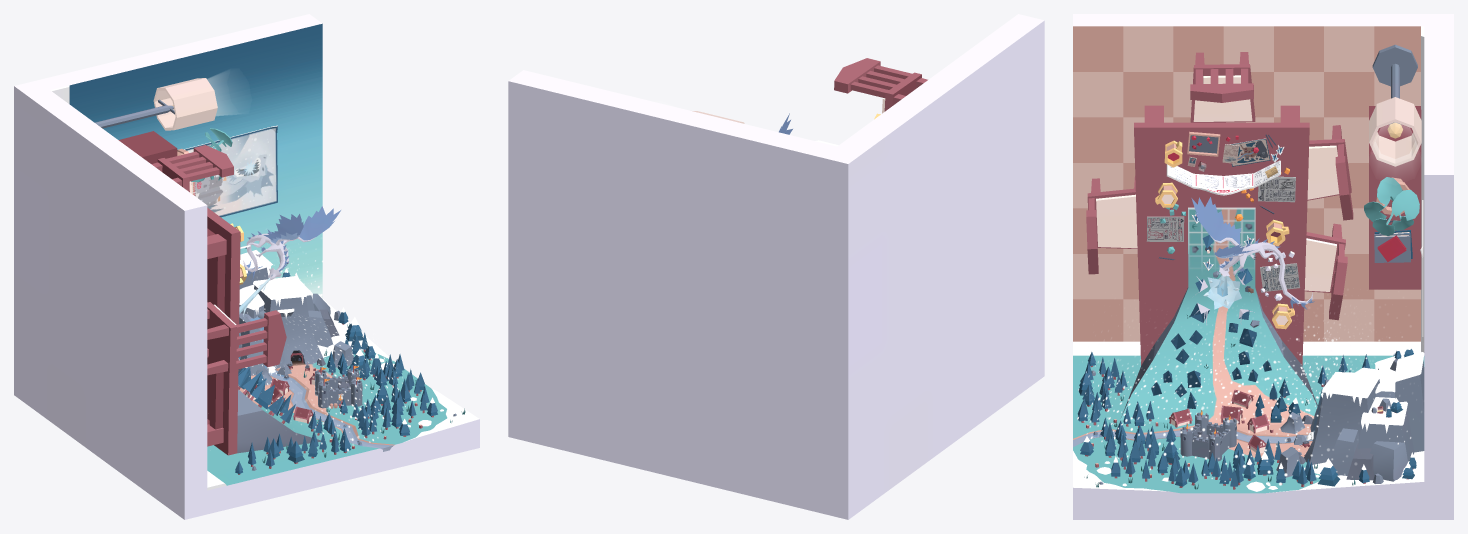
File: the_dragon_of_rockmine_keep-transformed.glb
The picture shows the model from 3 angles, left to right: view 1: azimuth 30°, elevation 25°; view 2: azimuth 150°, elevation 25°; view 3: azimuth 270°, elevation 25°; orthographic projection. The views are drawn at different scales.
Visible parts, largest first — view 1: ShelfItems_GEO_ColourChart_MAT_0, ShelfItems_GEO_PosterAndBooks_MAT_0, ShelfItems_GEO_GroundTexture_MAT_0, RockmineKeep_GEO_Snow_MAT_0, Furniture_GEO_LampShade_MAT_0, Dragon_GEO_DragonScale_MAT_0, Furniture_GEO_SnowAndGlow_MAT_0, RockmineKeep_GEO_Water_MAT_0; view 2: ShelfItems_GEO_ColourChart_MAT_0; view 3: ShelfItems_GEO_ColourChart_MAT_0, ShelfItems_GEO_GroundTexture_MAT_0, RockmineKeep_GEO_Snow_MAT_0, Furniture_GEO_SnowAndGlow_MAT_0, Furniture_GEO_LampShade_MAT_0, Table_Decorations_GEO_PlayerSheet_MAT_0, Dragon_GEO_DragonScale_MAT_0, Table_Decorations_GEO_DMScreen_MAT_0, Table_Decorations_GEO_DragonBlast_MAT_0, Table_Decorations_GEO_DMPapers_MAT_0, RockmineKeep_GEO_Water_MAT_0.
Boxes of the visible parts, x1,y1,x2,y2 form: ShelfItems_GEO_ColourChart_MAT_0: (14,14,479,519); ShelfItems_GEO_PosterAndBooks_MAT_0: (185,126,277,217); ShelfItems_GEO_GroundTexture_MAT_0: (238,350,447,444); RockmineKeep_GEO_Snow_MAT_0: (239,250,479,441); Furniture_GEO_LampShade_MAT_0: (153,78,217,130); Dragon_GEO_DragonScale_MAT_0: (243,206,340,281); Furniture_GEO_SnowAndGlow_MAT_0: (207,72,405,451); RockmineKeep_GEO_Water_MAT_0: (249,317,393,451); ShelfItems_GEO_ColourChart_MAT_0: (508,14,1044,519); ShelfItems_GEO_ColourChart_MAT_0: (1073,14,1453,519); ShelfItems_GEO_GroundTexture_MAT_0: (1073,145,1317,493); RockmineKeep_GEO_Snow_MAT_0: (1073,345,1424,492); Furniture_GEO_SnowAndGlow_MAT_0: (1077,122,1418,486); Furniture_GEO_LampShade_MAT_0: (1369,97,1421,166); Table_Decorations_GEO_PlayerSheet_MAT_0: (1146,157,1299,291); Dragon_GEO_DragonScale_MAT_0: (1191,197,1314,309); Table_Decorations_GEO_DMScreen_MAT_0: (1167,160,1280,193); Table_Decorations_GEO_DragonBlast_MAT_0: (1194,273,1254,324); Table_Decorations_GEO_DMPapers_MAT_0: (1222,139,1277,177); RockmineKeep_GEO_Water_MAT_0: (1073,388,1322,446).
Bounding box in the file's own units: 1.4 × 1.4 × 1.4.
13 materials, 10 textured.
